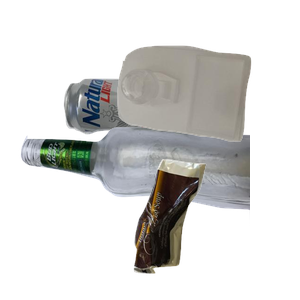glass: (18, 124, 258, 300)
metal: (61, 75, 231, 202)
plastic: (115, 43, 300, 177)
trash: (131, 157, 300, 300)
